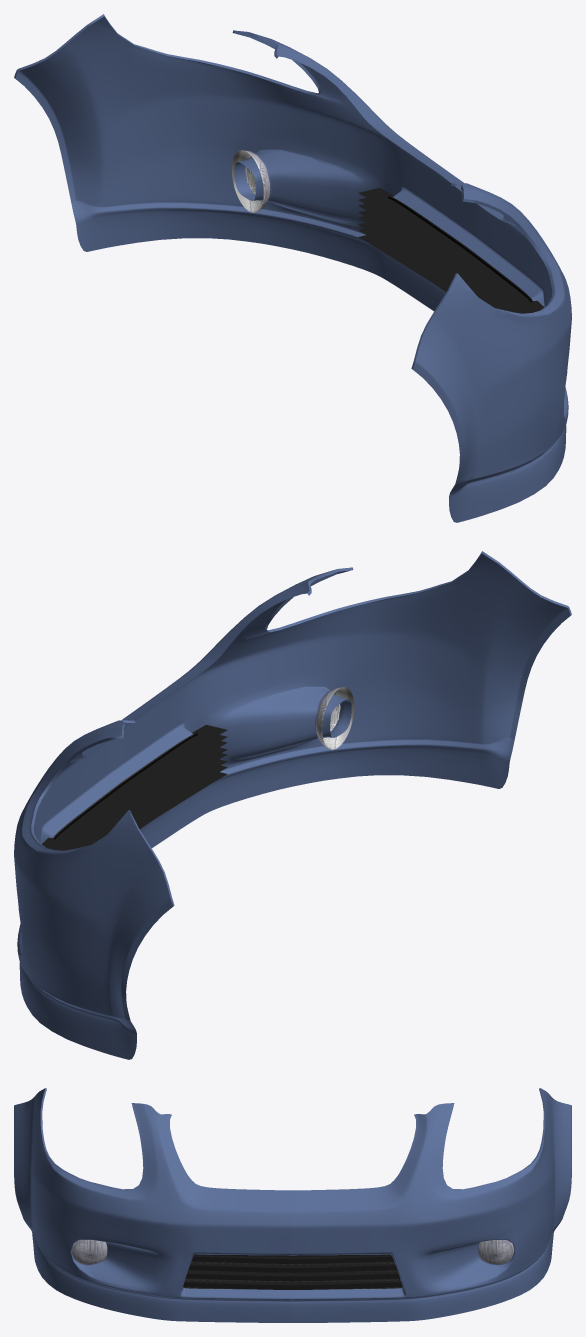
The picture shows the model from 3 angles, top to bottom: view 1: azimuth 30°, elevation 25°; view 2: azimuth 150°, elevation 25°; view 3: azimuth 270°, elevation 25°; orthographic projection. The views are drawn at different scales.
Visible parts, largest first — view 1: U236_17_021G_C_U236_17_021G_C_1_DaS, U236_17_021G_C_U236_17_021G_C_2_D, U236_17_021G_C_U236_17_021G_C_1_DaS_E, U236_17_021G_C_U236_17_021G_C_5_N; view 2: U236_17_021G_C_U236_17_021G_C_1_DaS, U236_17_021G_C_U236_17_021G_C_2_D, U236_17_021G_C_U236_17_021G_C_1_DaS_E, U236_17_021G_C_U236_17_021G_C_6_N; view 3: U236_17_021G_C_U236_17_021G_C_1_DaS, U236_17_021G_C_U236_17_021G_C_2_D, U236_17_021G_C_U236_17_021G_C_1_DaS_E, U236_17_021G_C_U236_17_021G_C_7_D, U236_17_021G_C_U236_17_021G_C_3_DTaSI, U236_17_021G_C_U236_17_021G_C_4_DTaSI, U236_17_021G_C_U236_17_021G_C_5_N, U236_17_021G_C_U236_17_021G_C_6_N.
Part boxes in pixels (x1,y1,x2,y2): U236_17_021G_C_U236_17_021G_C_1_DaS: (15, 16, 571, 522); U236_17_021G_C_U236_17_021G_C_2_D: (358, 187, 544, 313); U236_17_021G_C_U236_17_021G_C_1_DaS_E: (14, 14, 554, 369); U236_17_021G_C_U236_17_021G_C_5_N: (231, 150, 270, 212); U236_17_021G_C_U236_17_021G_C_1_DaS: (14, 553, 570, 1059); U236_17_021G_C_U236_17_021G_C_2_D: (41, 724, 227, 850); U236_17_021G_C_U236_17_021G_C_1_DaS_E: (31, 551, 571, 906); U236_17_021G_C_U236_17_021G_C_6_N: (316, 687, 354, 749); U236_17_021G_C_U236_17_021G_C_1_DaS: (14, 1088, 571, 1322); U236_17_021G_C_U236_17_021G_C_2_D: (183, 1255, 402, 1289); U236_17_021G_C_U236_17_021G_C_1_DaS_E: (40, 1088, 545, 1296); U236_17_021G_C_U236_17_021G_C_7_D: (184, 1254, 401, 1289); U236_17_021G_C_U236_17_021G_C_3_DTaSI: (478, 1240, 514, 1264); U236_17_021G_C_U236_17_021G_C_4_DTaSI: (71, 1240, 107, 1264); U236_17_021G_C_U236_17_021G_C_5_N: (478, 1240, 514, 1264); U236_17_021G_C_U236_17_021G_C_6_N: (71, 1240, 107, 1264).
Bounding box in the file's own units: 67.12 × 62.4 × 176.
